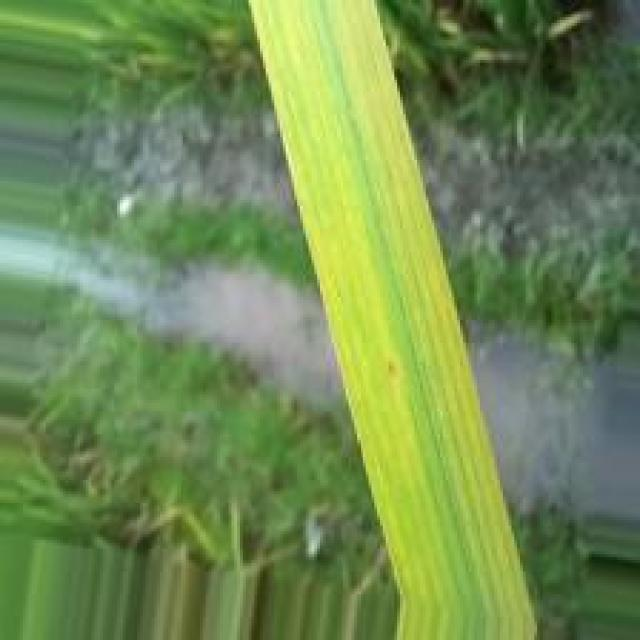Brown_Spot: (387, 358, 396, 376)
